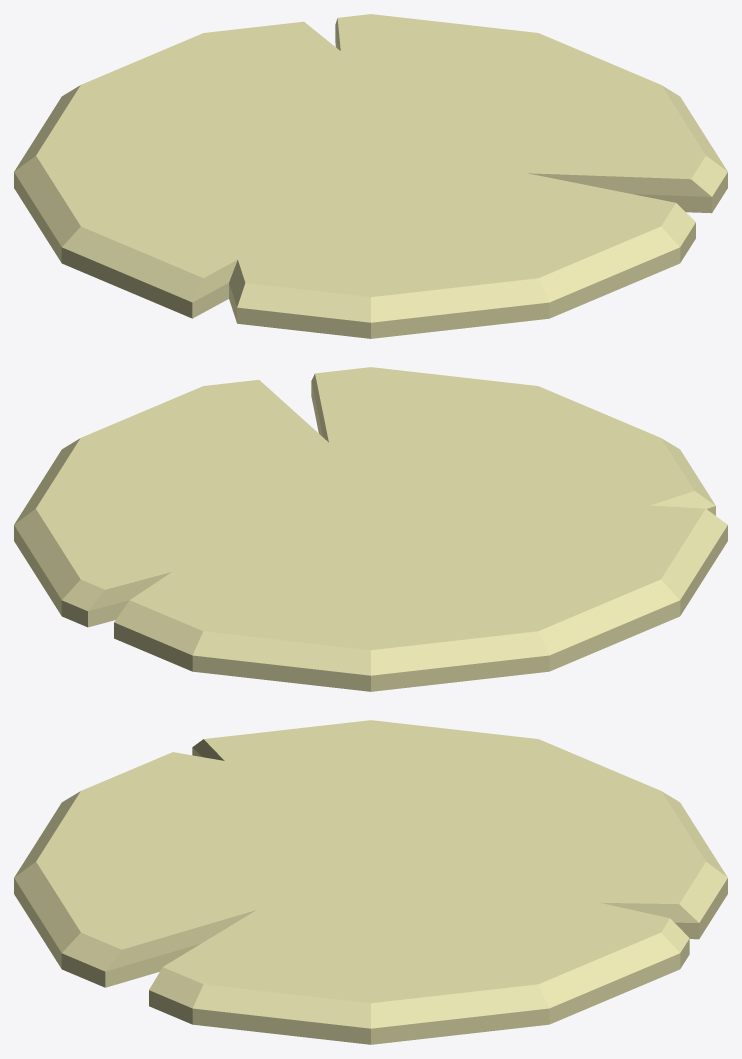
The model's file is SteppingStone.fbx.
The picture shows the model from 3 angles, top to bottom: view 1: azimuth 30°, elevation 25°; view 2: azimuth 150°, elevation 25°; view 3: azimuth 270°, elevation 25°; orthographic projection.
Parts seen in each view (by area): view 1: Circle; view 2: Circle; view 3: Circle.
Part boxes in pixels (<box>): Circle: <box>14,14,727,338</box>; Circle: <box>14,367,727,691</box>; Circle: <box>14,720,727,1044</box>.
Size of the model in its own units: 200 by 10 by 200.
